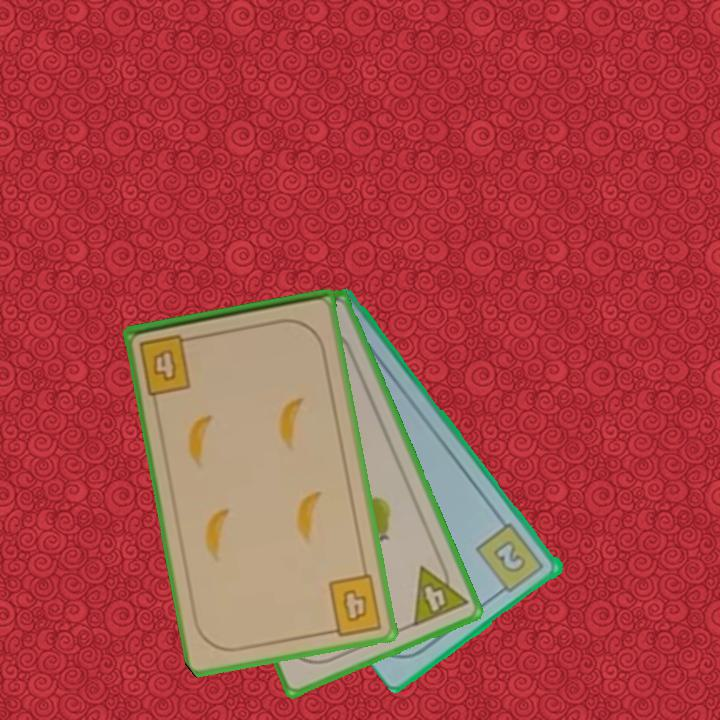2b: (473, 520, 548, 599)
4b: (136, 330, 200, 398), (323, 571, 385, 639)
4p: (409, 555, 471, 630)
